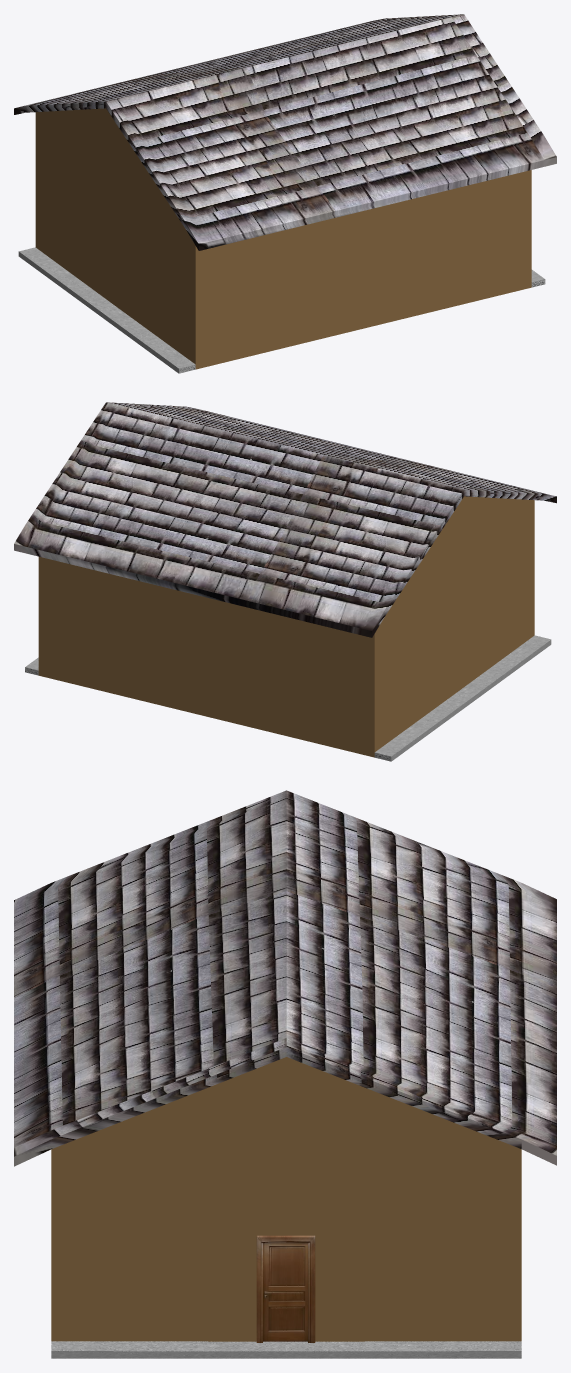
Rendered from House1.fbx.
3 renders of one model, top to bottom at view 1: azimuth 30°, elevation 25°; view 2: azimuth 150°, elevation 25°; view 3: azimuth 270°, elevation 25°, orthographic. The views are drawn at different scales.
Visible parts, largest first — view 1: Cube; view 2: Cube; view 3: Cube.
Boxes of the visible parts, <box> form: Cube: <box>14,14,556,373</box>; Cube: <box>14,402,556,761</box>; Cube: <box>14,790,556,1358</box>.
Bounding box in the file's own units: 1137 × 628 × 994.
4 materials, 3 textured.
